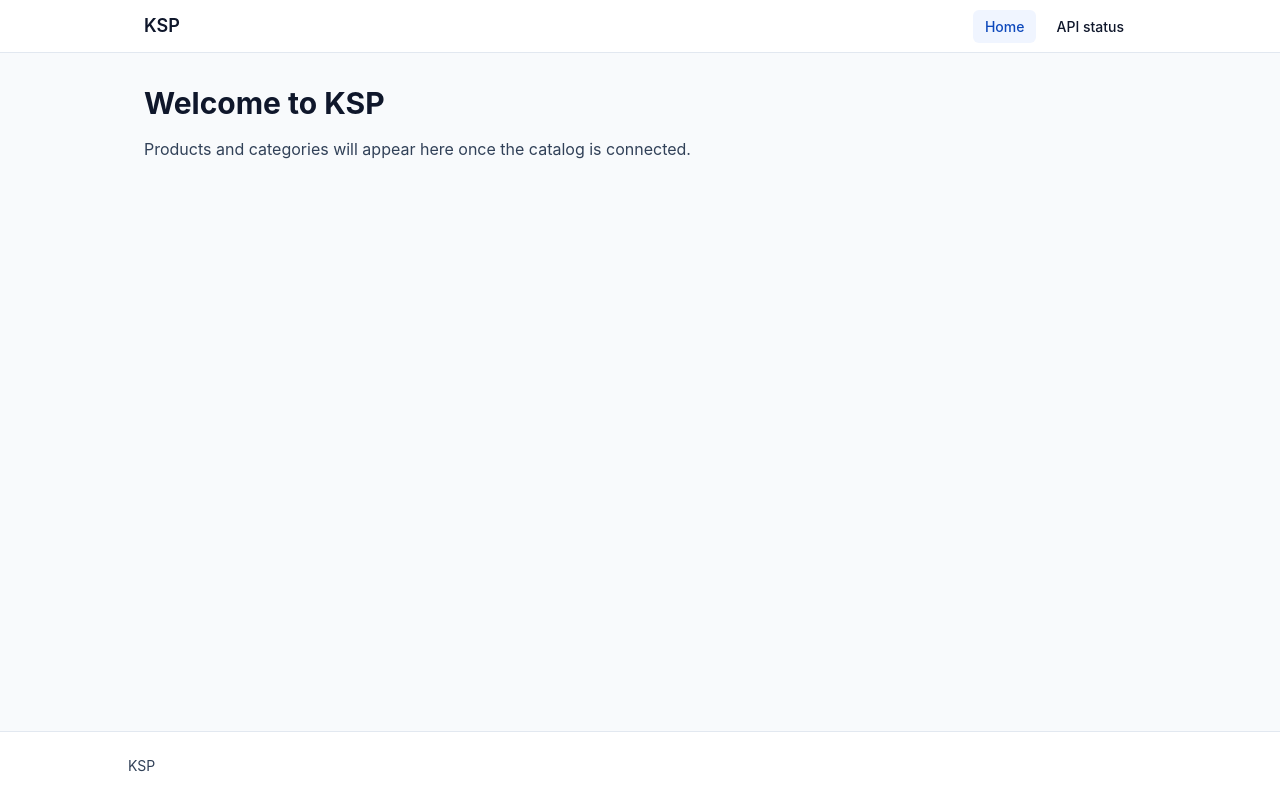
Test case: RootLayout › changes the page content on navigation without rebuilding the frame
Click the link "API status".
click(1090, 26)  # box [1056, 18, 1124, 35]
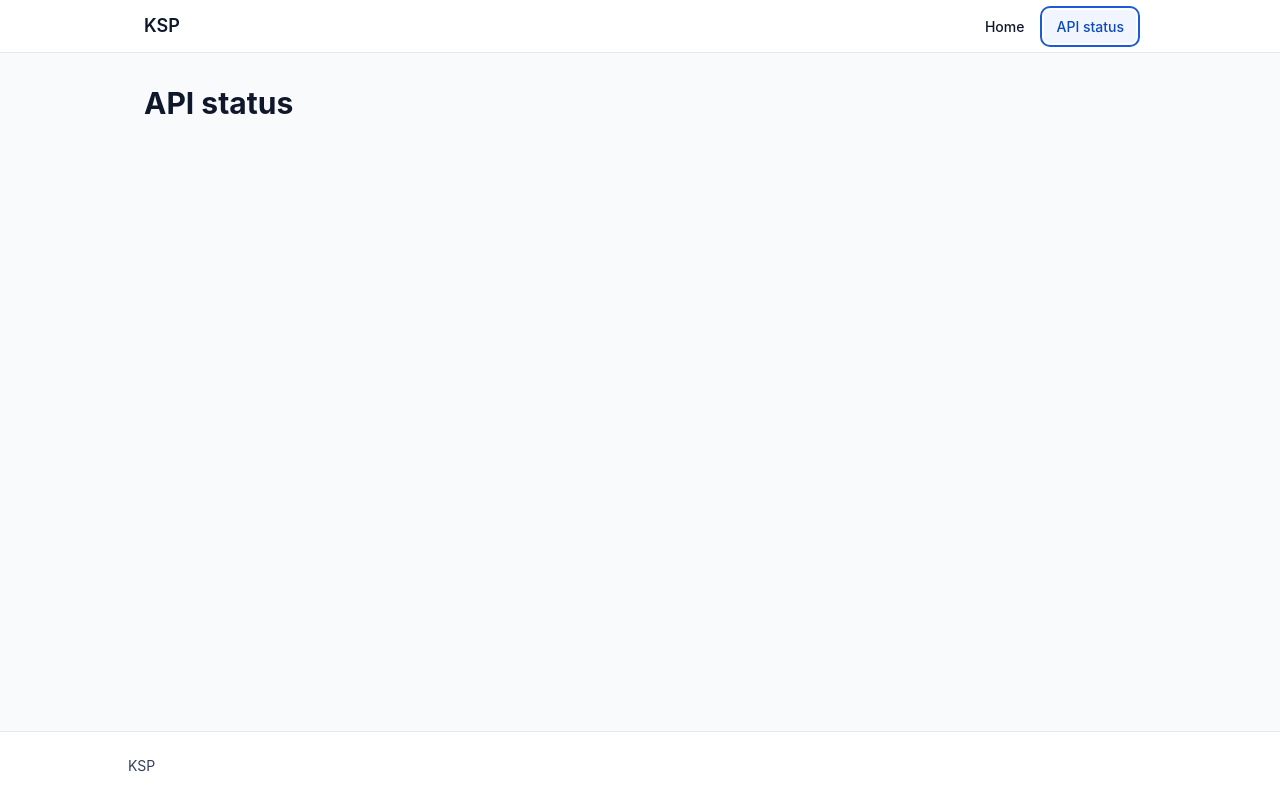
Now the heading "API status" is shown, box [144, 85, 293, 121]
Now the heading "Welcome to KSP" is gone
